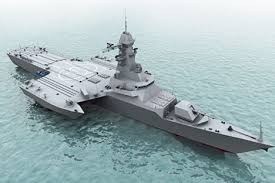tau_muctieu: (10, 44, 273, 160)
